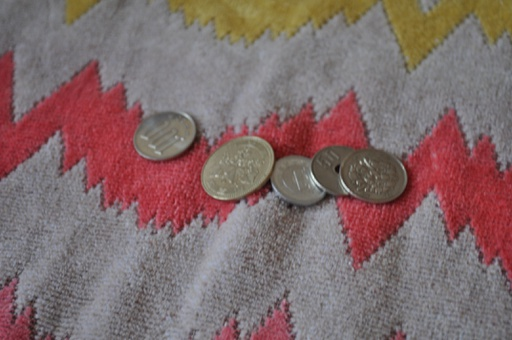100yen: (340, 150, 407, 203), (134, 112, 195, 161)
1yen: (270, 155, 330, 205)
500yen: (201, 136, 275, 201)
50yen: (309, 144, 361, 197)
